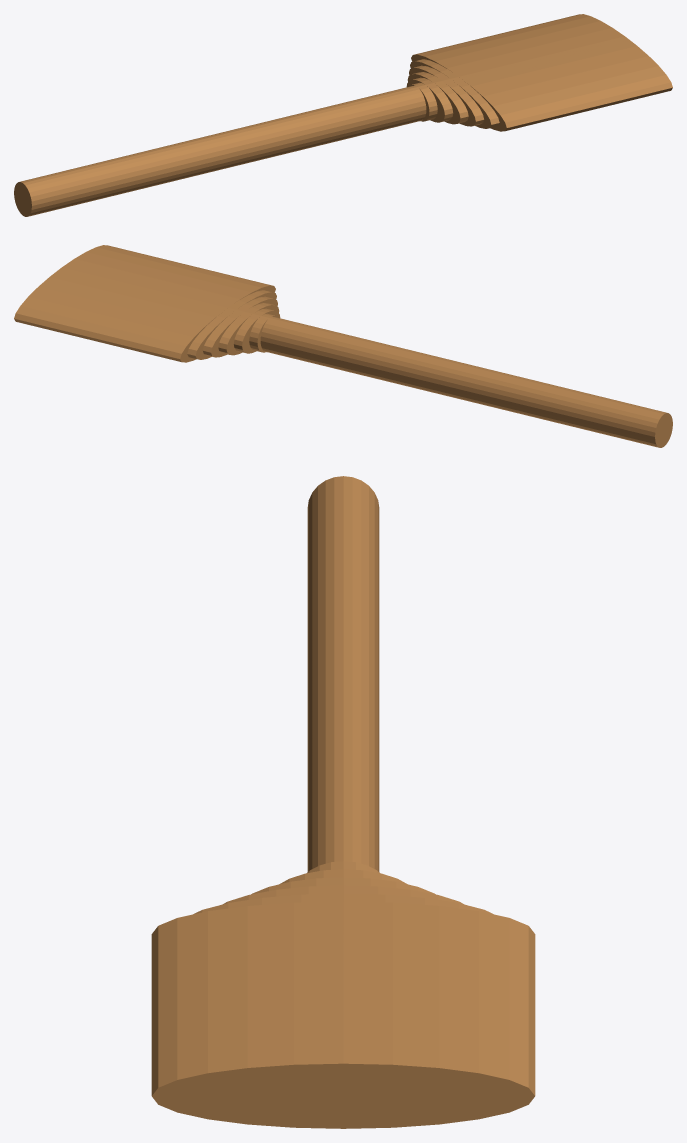
File: trombeta.glb
3 renders of one model, top to bottom at view 1: azimuth 30°, elevation 25°; view 2: azimuth 150°, elevation 25°; view 3: azimuth 270°, elevation 25°, orthographic. The views are drawn at different scales.
Parts seen in each view (by area): view 1: Pavilhão.005, Tubo, Pavilhão.004, Pavilhão.003, Pavilhão.002, Pavilhão.001, Pavilhão; view 2: Pavilhão.005, Tubo, Pavilhão.004, Pavilhão.003, Pavilhão.002, Pavilhão.001, Pavilhão; view 3: Pavilhão.005, Tubo, Pavilhão.004, Pavilhão.003, Pavilhão.002.
Boxes of the visible parts, x1,y1,x2,y2 form: Pavilhão.005: (411, 14, 672, 131); Tubo: (14, 85, 426, 216); Pavilhão.004: (410, 59, 499, 128); Pavilhão.003: (409, 65, 484, 126); Pavilhão.002: (407, 72, 468, 124); Pavilhão.001: (406, 77, 453, 122); Pavilhão: (408, 82, 437, 121); Pavilhão.005: (14, 245, 275, 362); Tubo: (260, 316, 672, 447); Pavilhão.004: (187, 290, 276, 359); Pavilhão.003: (202, 296, 277, 357); Pavilhão.002: (218, 303, 279, 355); Pavilhão.001: (233, 308, 280, 353); Pavilhão: (249, 313, 278, 352); Pavilhão.005: (151, 901, 535, 1128); Tubo: (307, 476, 379, 871); Pavilhão.004: (193, 893, 493, 1028); Pavilhão.003: (223, 885, 463, 998); Pavilhão.002: (251, 877, 435, 955).
Size of the model in its own units: 2.9 by 0.15 by 0.8.
